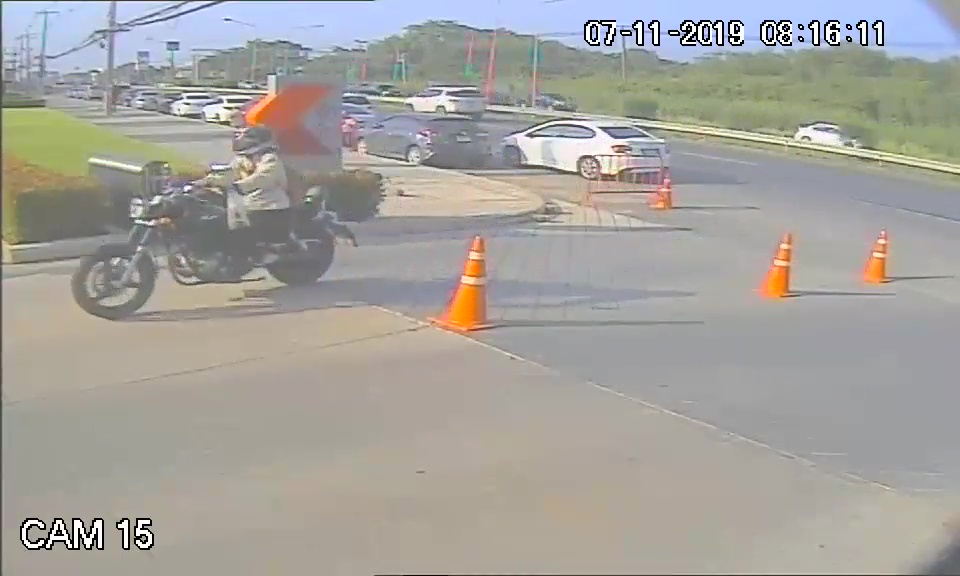motorcycle: (73, 169, 343, 321)
